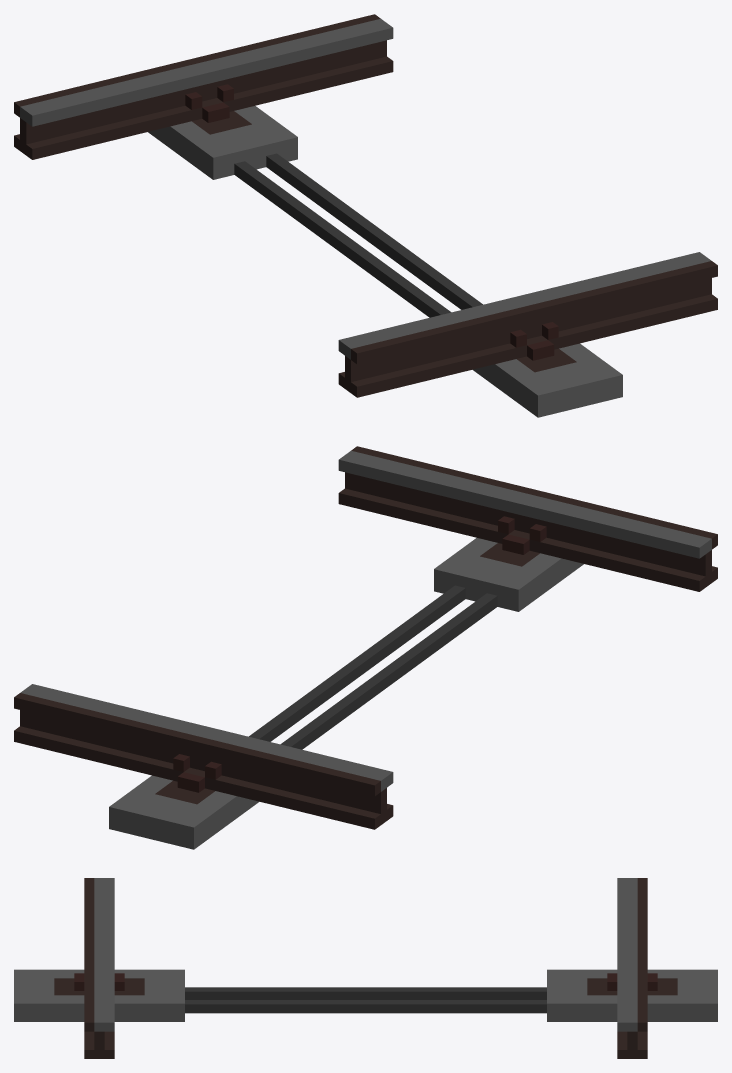
File: twoblock.obj
3 views of the same model, one above another, from view 1: azimuth 30°, elevation 25°; view 2: azimuth 150°, elevation 25°; view 3: azimuth 270°, elevation 25° (orthographic). The views are drawn at different scales.
Visible parts, largest first — view 1: RAIL_RIGHT, RAIL_LEFT, RAIL_BASE_2, RAIL_BASE_1; view 2: RAIL_LEFT, RAIL_RIGHT, RAIL_BASE_2, RAIL_BASE_1; view 3: RAIL_BASE_2, RAIL_LEFT, RAIL_RIGHT, RAIL_BASE_1.
Boxes of the visible parts, bbox=[...] form: RAIL_RIGHT: bbox=[14, 14, 393, 159]; RAIL_LEFT: bbox=[338, 252, 717, 397]; RAIL_BASE_2: bbox=[148, 106, 622, 417]; RAIL_BASE_1: bbox=[185, 84, 558, 360]; RAIL_LEFT: bbox=[338, 446, 717, 591]; RAIL_RIGHT: bbox=[14, 684, 393, 829]; RAIL_BASE_2: bbox=[109, 538, 583, 849]; RAIL_BASE_1: bbox=[173, 516, 546, 792]; RAIL_BASE_2: bbox=[14, 969, 717, 1021]; RAIL_LEFT: bbox=[84, 878, 114, 1058]; RAIL_RIGHT: bbox=[617, 878, 647, 1058]; RAIL_BASE_1: bbox=[74, 973, 657, 990].
Size of the model in its own units: 1.06 by 0.1875 by 2.19.
1 material, 1 textured.
